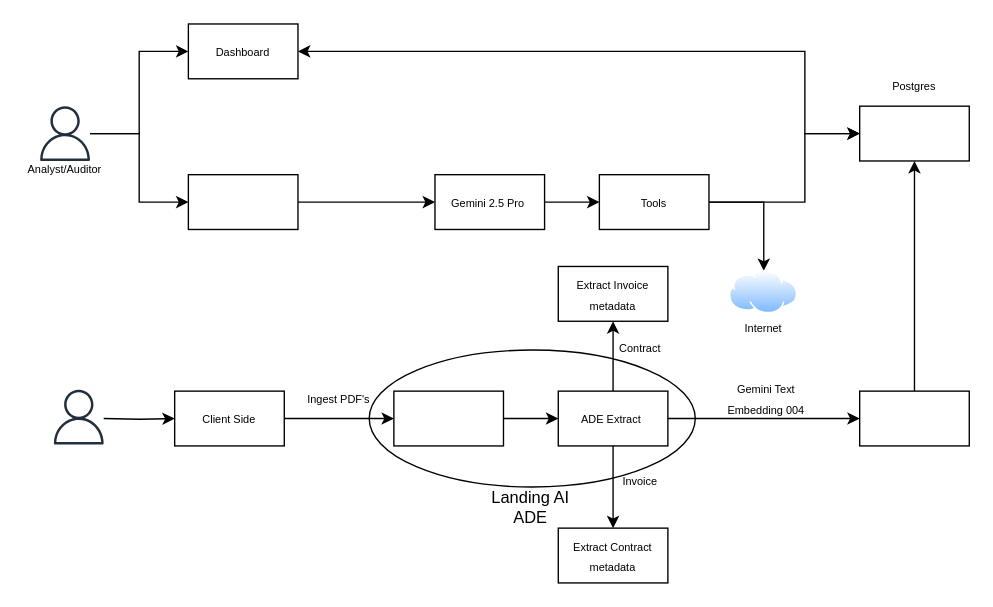
This 993x607 diagram has some shape labels left out. The box of each missing label's shape, as (x1, y1, x2, y2) in pixels:
ADE Parse: (393, 390, 503, 446)
Convert to Embeddings: (858, 390, 969, 446)
Metadata, Text, Embeddings stored: (858, 105, 969, 161)
Query Individual Documents: (187, 173, 298, 229)
